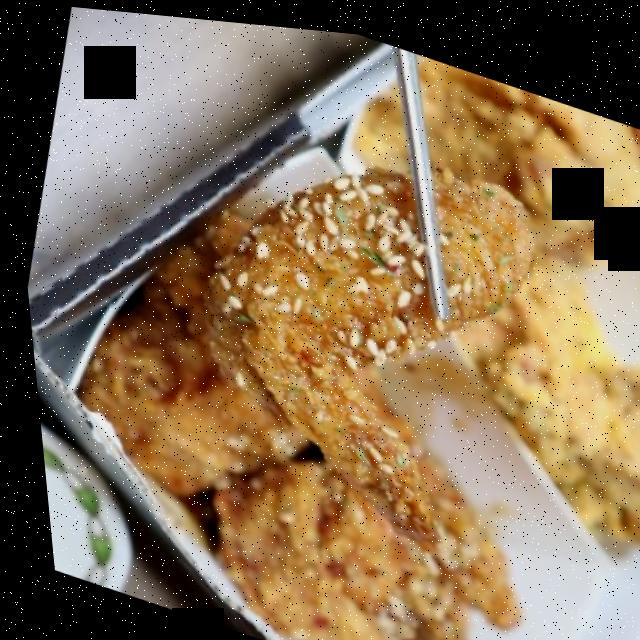Frango: (4, 49, 630, 640)
